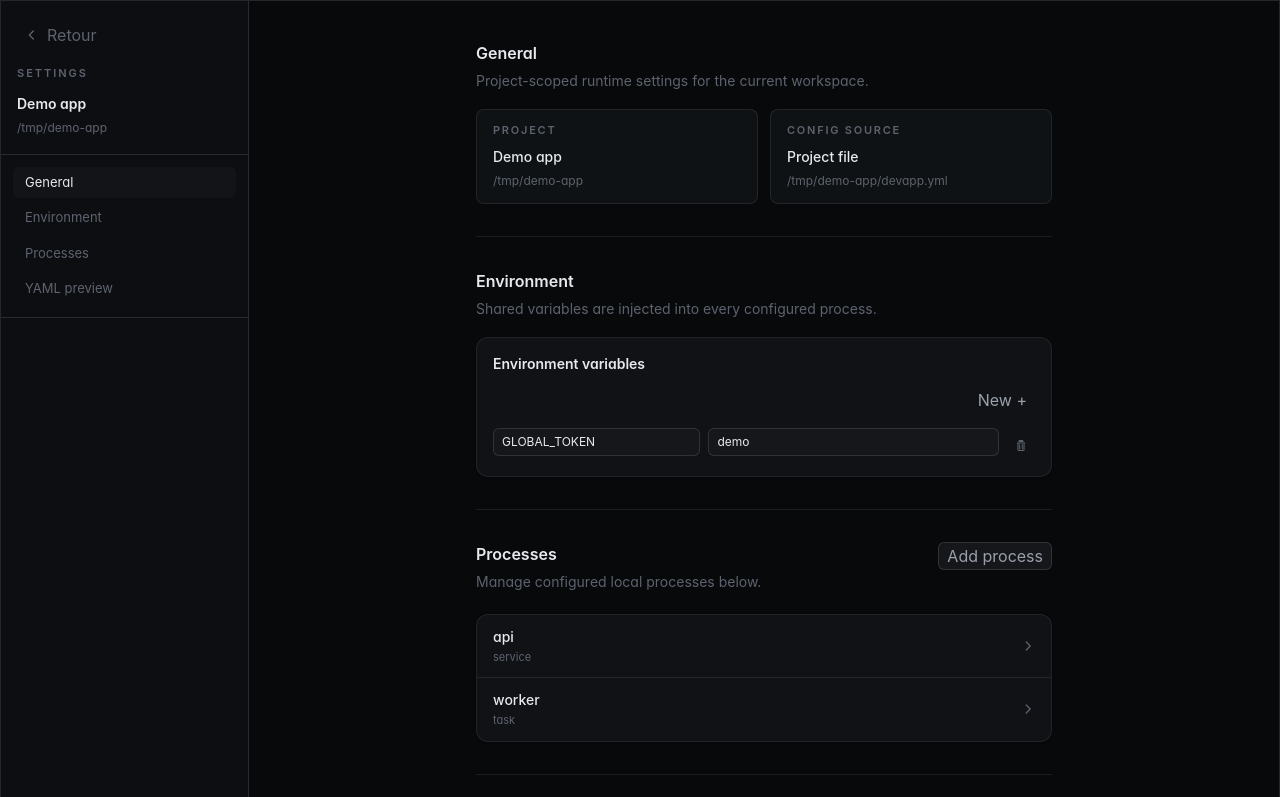
Test: ConfigEditor › shows dirty footer status after returning from process detail editing
The width and height of the screenshot is (1280, 797).
Expected: the heading "Processes" is shown, top-left (476, 544), bottom-right (557, 564)
Click the button with aria-label "Open process api (service)".
click(512, 656)  # box top-left (477, 614), bottom-right (1051, 677)
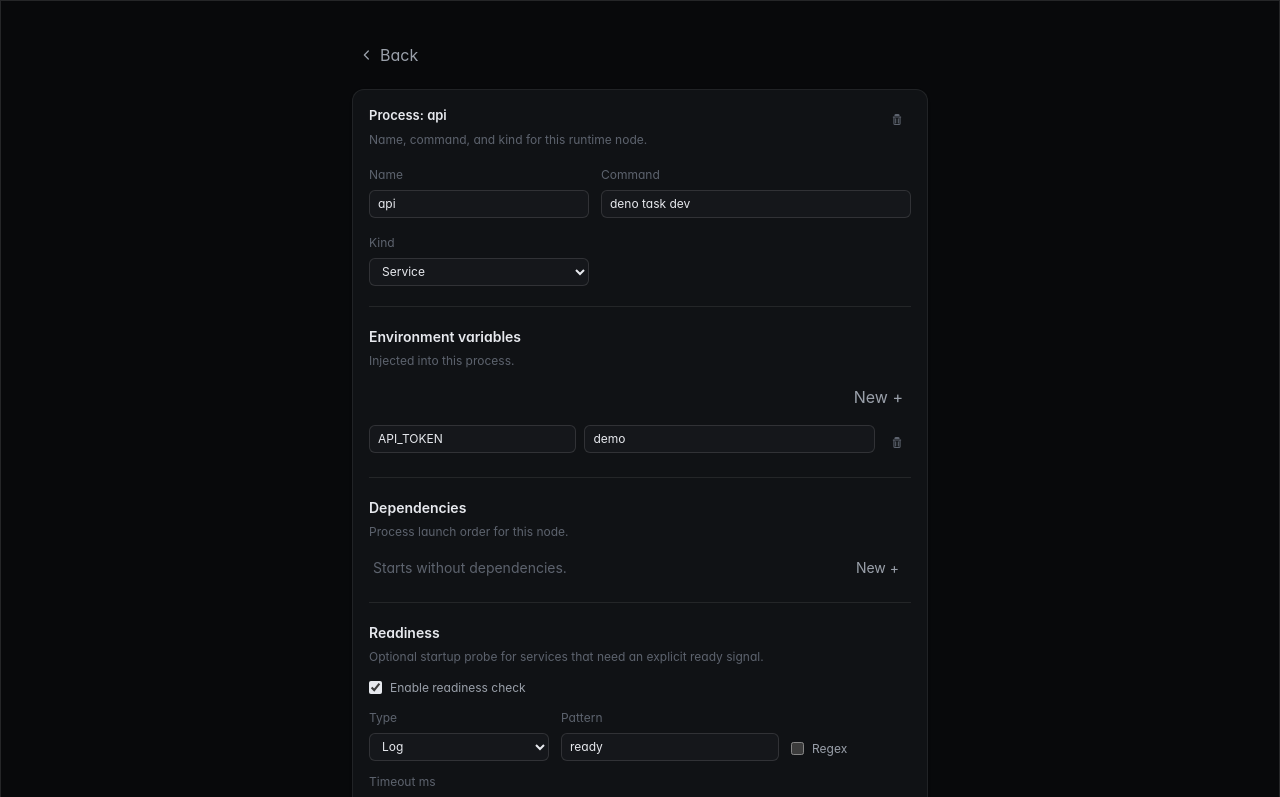
Expected: the heading "Process: api" is shown, top-left (369, 107), bottom-right (447, 123)
Replace the text in the field labelled "Name" with "api-renamed" at (479,204), box top-left (369, 190), bottom-right (589, 218)
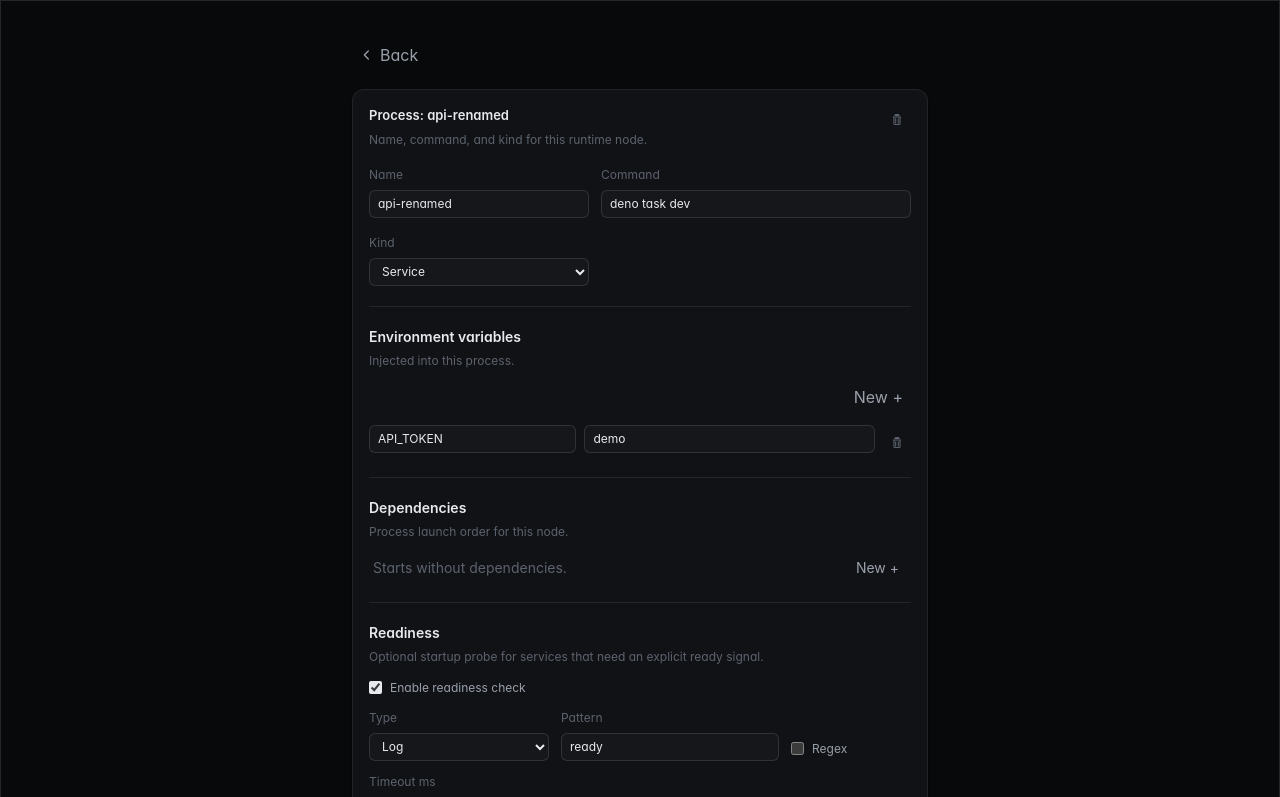
Expected: the button "Save" is not shown
Expected: the button "Cancel" is not shown
Click the button with aria-label "Back to processes".
click(389, 55)  # box top-left (352, 41), bottom-right (426, 69)
(page scrolled)
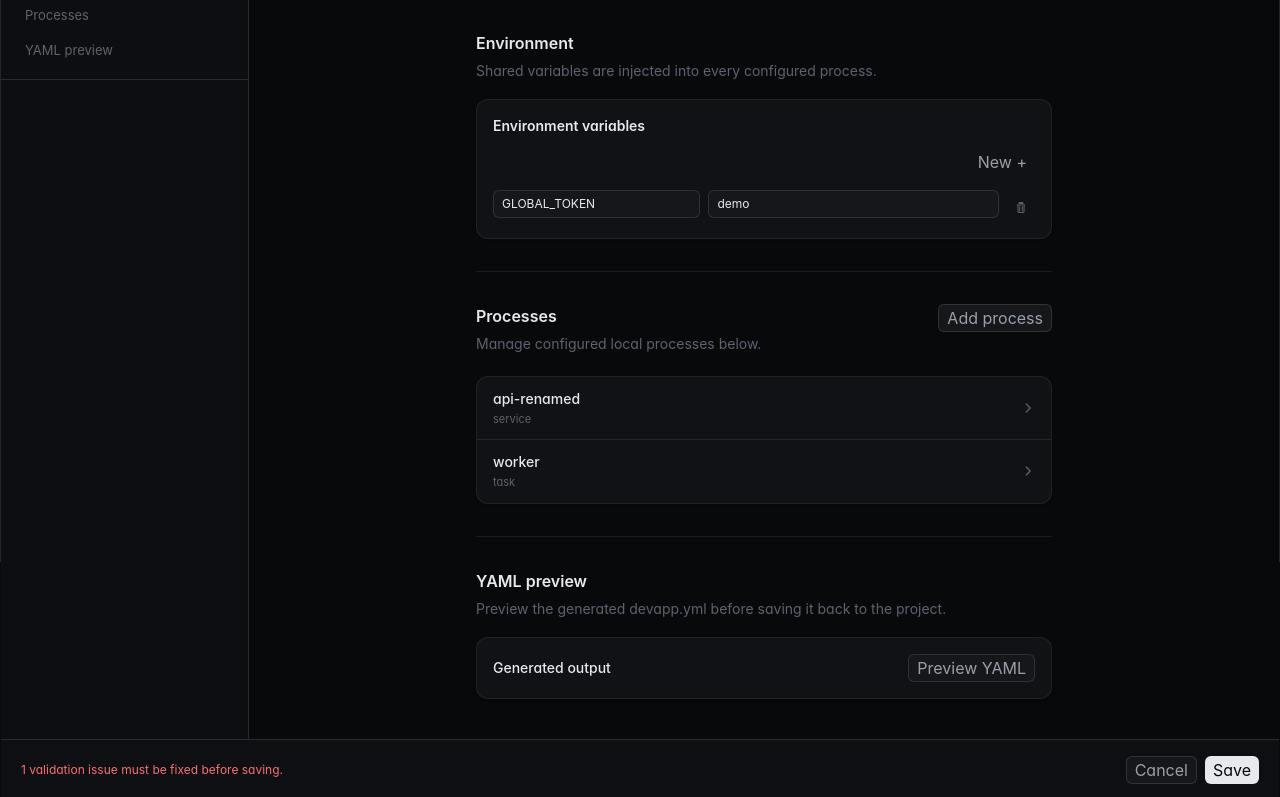
Expected: the text "Unsaved changes in project YAML" is shown, top-left (21, 762), bottom-right (283, 778)
Expected: the button "Save" is shown, top-left (1205, 756), bottom-right (1259, 784)
